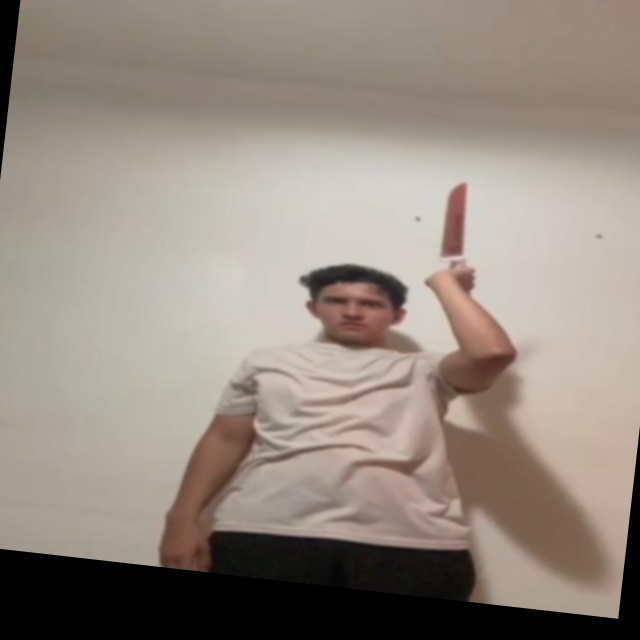Sharp-Object: (432, 180, 475, 265)
